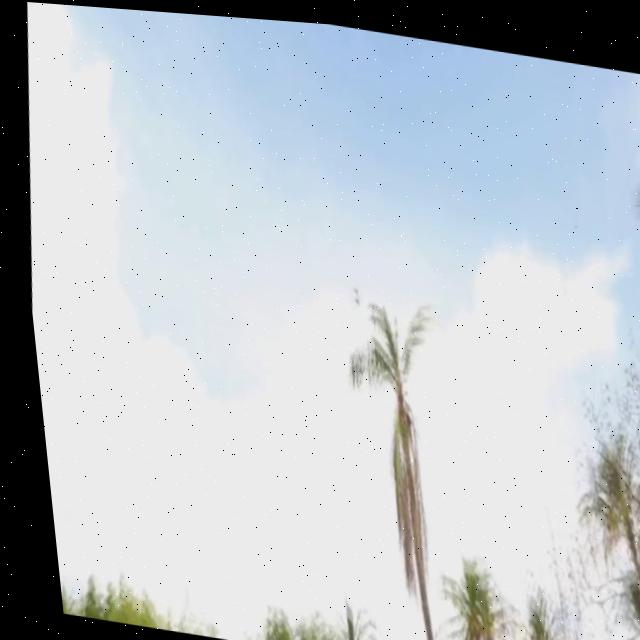drones: (296, 231, 379, 330)
